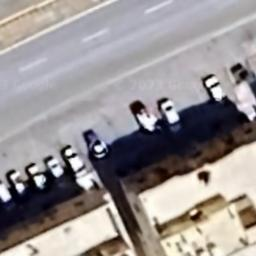sedan: (123, 102, 160, 137), (155, 98, 188, 137), (57, 144, 91, 180), (82, 128, 112, 162), (201, 73, 229, 109), (2, 169, 30, 201), (22, 164, 50, 192), (42, 156, 68, 184), (0, 177, 14, 211)
